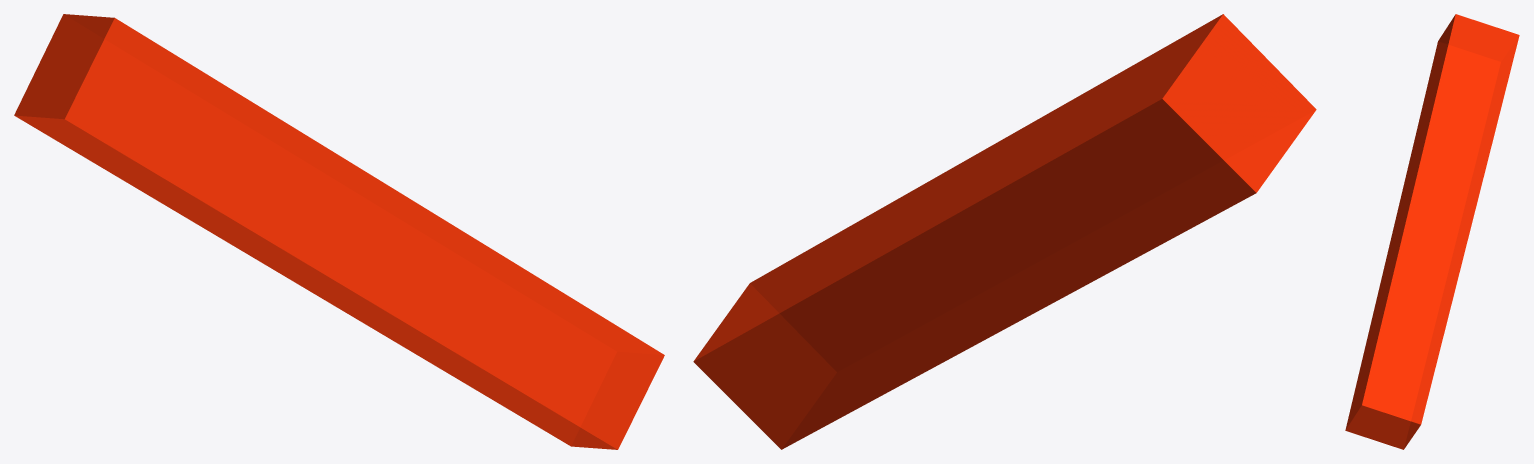
File: Event_420107950_EBrechit_5.fbx
3 renders of one model, left to right at view 1: azimuth 30°, elevation 25°; view 2: azimuth 150°, elevation 25°; view 3: azimuth 270°, elevation 25°, orthographic. The views are drawn at different scales.
Parts seen in each view (by area): view 1: Model; view 2: Model; view 3: Model.
Part boxes in pixels (bbox=[...]): Model: bbox=[14, 14, 664, 449]; Model: bbox=[693, 14, 1316, 449]; Model: bbox=[1345, 14, 1519, 449].
Bounding box in the file's own units: 0.3442 × 0.3046 × 0.1551.
